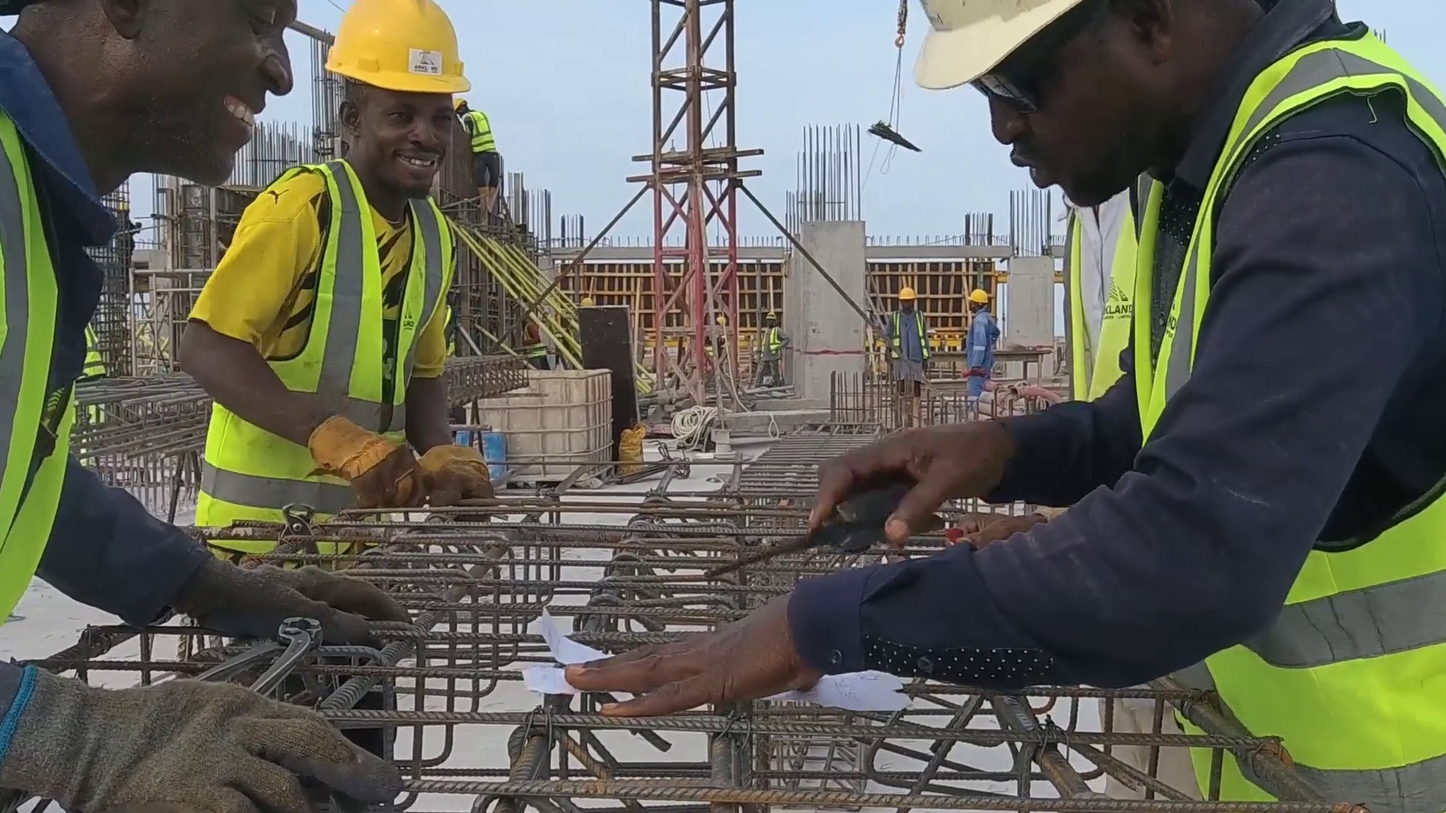helmet: (912, 1, 1094, 92), (326, 0, 472, 94), (969, 289, 989, 305), (897, 287, 917, 301), (453, 94, 467, 111), (578, 298, 594, 307), (715, 315, 725, 326), (766, 312, 778, 321)
person: (562, 1, 1446, 813), (0, 0, 415, 813), (177, 2, 499, 572), (878, 287, 933, 433), (453, 95, 508, 233), (959, 289, 999, 421), (753, 309, 791, 388), (521, 318, 553, 370), (712, 315, 734, 361)
